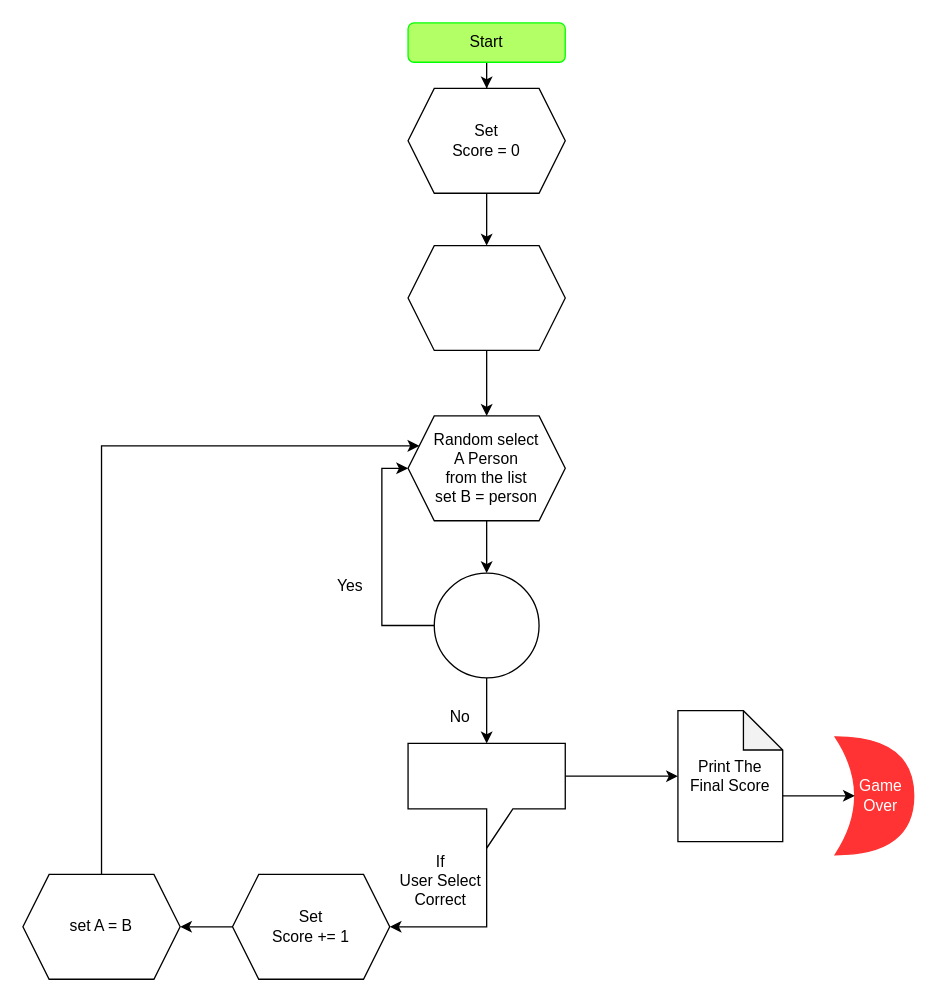
The diagram is 937 pixels wide and 1002 high, and some of its shapes have lost their labels. Here are the shapes that lost their labels. From the top down, the centre of each, then its label:
At (x=486, y=297): "Random select A Person from the list set A = person".
At (x=486, y=625): "IF A == B".
At (x=486, y=795): "Ask User is A HIgher or Lower Than B".
